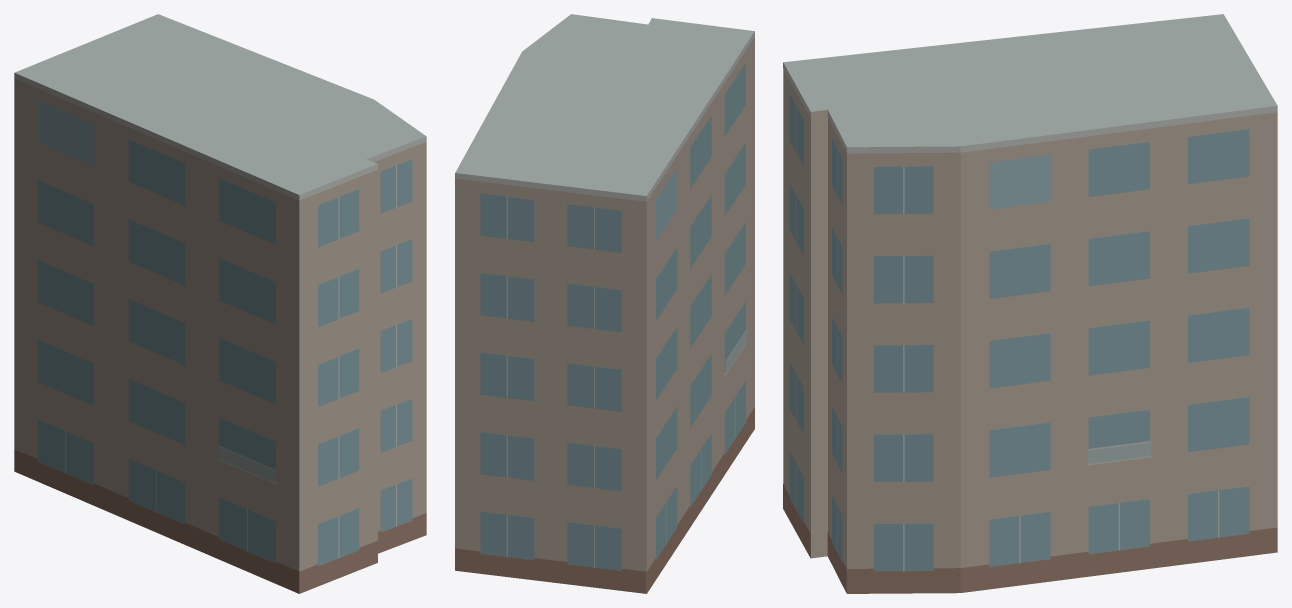
File: survey-upis-32598559.glb
The picture shows the model from 3 angles, left to right: view 1: azimuth 30°, elevation 25°; view 2: azimuth 150°, elevation 25°; view 3: azimuth 270°, elevation 25°; orthographic projection. The views are drawn at different scales.
Visible parts, largest first — view 1: survey-upis-32598559.tmp; view 2: survey-upis-32598559.tmp; view 3: survey-upis-32598559.tmp.
Part boxes in pixels (<box>): survey-upis-32598559.tmp: <box>14,14,426,593</box>; survey-upis-32598559.tmp: <box>455,14,754,593</box>; survey-upis-32598559.tmp: <box>783,14,1277,593</box>.
Size of the model in its own units: 11.12 by 17.35 by 17.42.
